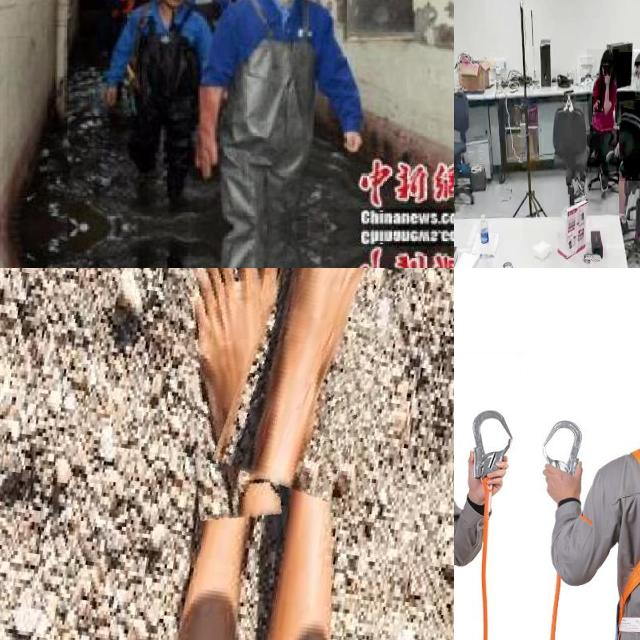Barefoots: (228, 268, 447, 507), (145, 268, 308, 526)
face_mask: (635, 65, 640, 99)
face_nomask: (601, 65, 611, 77)
hand_glove: (189, 132, 225, 180)
hand_noglove: (341, 132, 366, 154), (102, 85, 120, 105), (592, 96, 602, 114), (604, 72, 610, 86)
head_nohelmet: (600, 48, 614, 61), (633, 49, 640, 62)
person: (220, 0, 332, 236), (128, 0, 210, 206), (587, 49, 619, 193), (616, 52, 640, 182)
